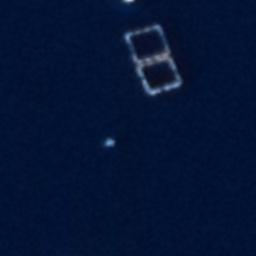square_solid: (135, 55, 185, 99), (123, 22, 172, 65)
